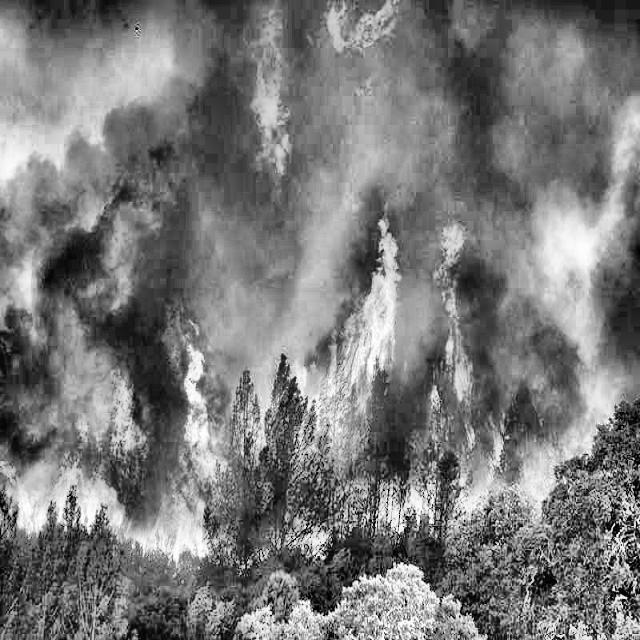fire: (300, 235, 492, 612), (0, 406, 271, 623)
